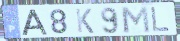8: (49, 8, 70, 34)
9: (100, 6, 120, 34)
A: (21, 8, 49, 36)
K: (74, 8, 96, 35)
L: (150, 7, 172, 33)
M: (119, 5, 152, 34)
